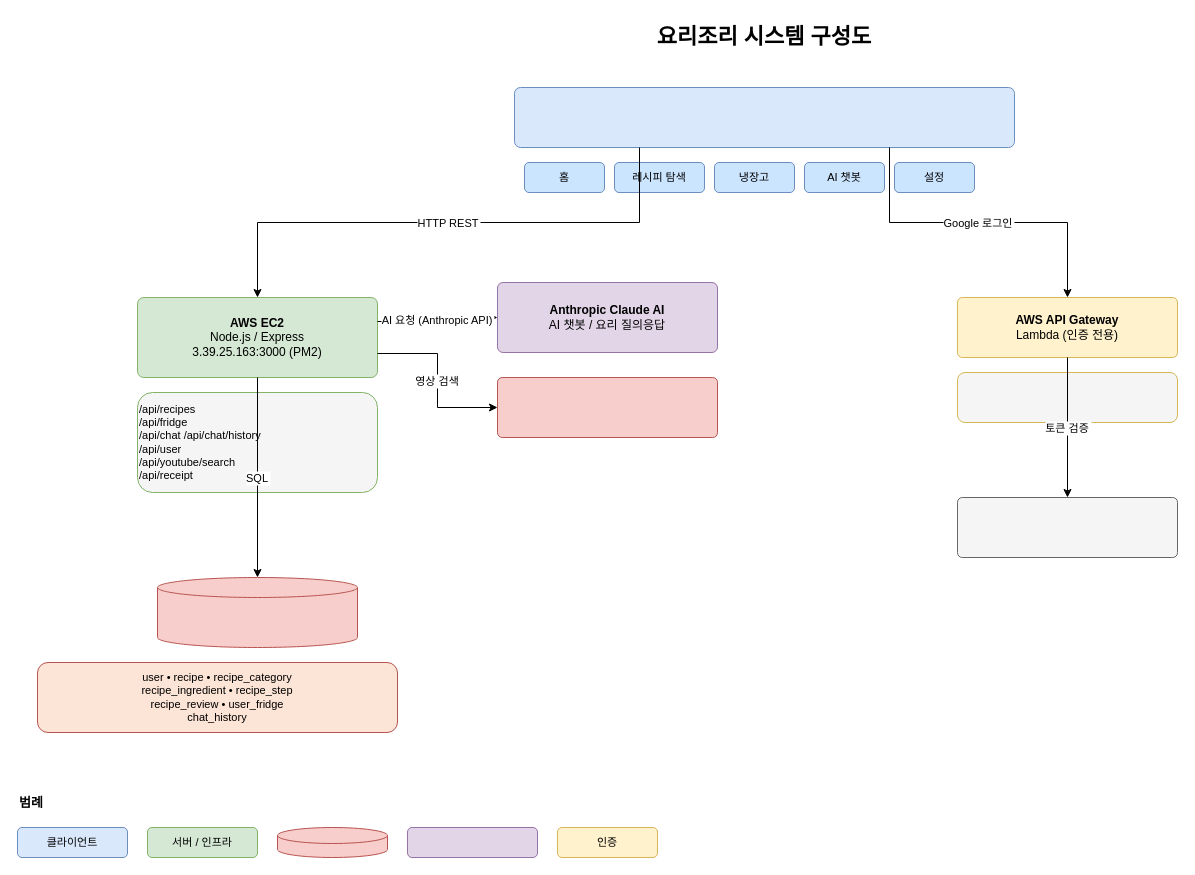
This 1195x875 diagram has some shape labels left out. The shapes that lost their labels are listed below. From the top down, each one's box as (x1, y1, x2, y2) in pixels, then its label:
(514, 86, 1014, 148): Client React Native / Expo (iOS)
(496, 376, 718, 438): YouTube Data API 레시피 영상 검색
(956, 372, 1178, 422): POST /auth/google GET /auth/me
(956, 496, 1178, 558): Google OAuth 2.0 소셜 로그인
(156, 576, 358, 648): AWS RDS (MySQL)
(276, 826, 388, 858): 데이터베이스
(406, 826, 538, 858): AI / 외부 서비스
